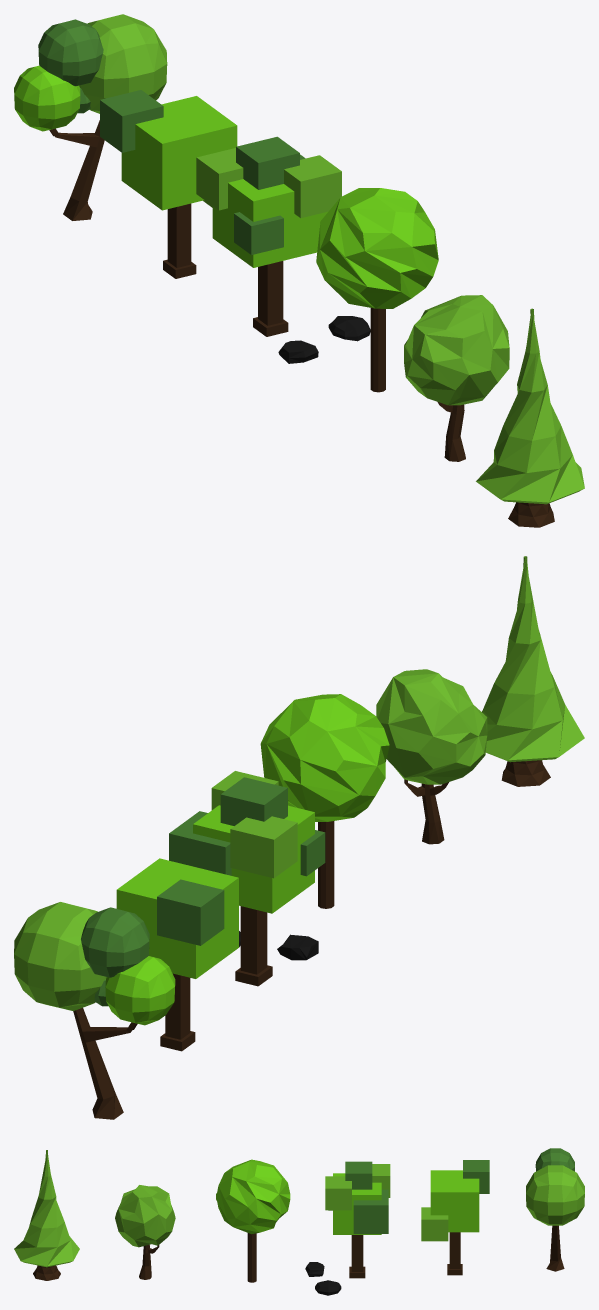
The model's file is PixelArt_Trees&Stones.FBX.
3 renders of one model, top to bottom at view 1: azimuth 30°, elevation 25°; view 2: azimuth 150°, elevation 25°; view 3: azimuth 270°, elevation 25°, orthographic. The views are drawn at different scales.
Visible parts, largest first — view 1: BoxyTree2, LowPolyTree_1, SprialTree, BoxyTree1, HedraTree, PineLowpoly, Stone2, Stone1; view 2: LowPolyTree_1, BoxyTree2, SprialTree, BoxyTree1, HedraTree, PineLowpoly, Stone1; view 3: BoxyTree2, SprialTree, BoxyTree1, LowPolyTree_1, PineLowpoly, HedraTree, Stone2, Stone1.
Boxes of the visible parts, left/top/right/bottom form: BoxyTree2: left=196, top=136, right=341, bottom=336; LowPolyTree_1: left=14, top=14, right=167, bottom=220; SprialTree: left=316, top=188, right=438, bottom=392; BoxyTree1: left=100, top=90, right=237, bottom=278; HedraTree: left=404, top=295, right=509, bottom=461; PineLowpoly: left=476, top=308, right=584, bottom=527; Stone2: left=328, top=316, right=370, bottom=341; Stone1: left=278, top=340, right=318, bottom=363; LowPolyTree_1: left=14, top=902, right=175, bottom=1119; BoxyTree2: left=169, top=771, right=325, bottom=986; SprialTree: left=260, top=694, right=389, bottom=908; BoxyTree1: left=116, top=858, right=238, bottom=1051; HedraTree: left=376, top=669, right=487, bottom=844; PineLowpoly: left=482, top=556, right=584, bottom=786; Stone1: left=277, top=934, right=318, bottom=960; BoxyTree2: left=325, top=1161, right=390, bottom=1278; SprialTree: left=216, top=1159, right=290, bottom=1282; BoxyTree1: left=421, top=1160, right=489, bottom=1275; LowPolyTree_1: left=526, top=1148, right=584, bottom=1271; PineLowpoly: left=14, top=1150, right=79, bottom=1280; HedraTree: left=115, top=1185, right=175, bottom=1279; Stone2: left=315, top=1280, right=341, bottom=1295; Stone1: left=305, top=1262, right=324, bottom=1276.
Size of the model in its own units: 52.63 by 66.6 by 273.
Materials: 2 (1 with a texture image).
